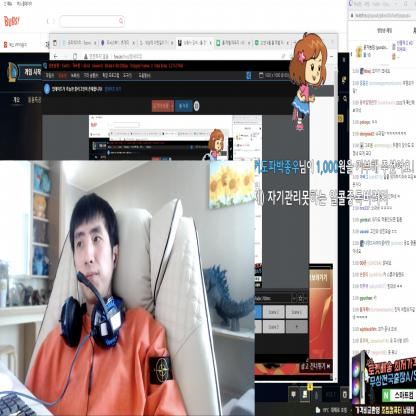donation: (254, 159, 414, 206)
streamer: (26, 193, 188, 416)
